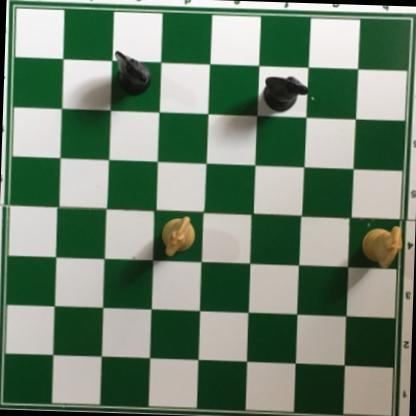black-knight: (261, 74, 311, 114), (110, 51, 153, 97)
white-knight: (357, 223, 404, 272), (157, 213, 197, 258)
